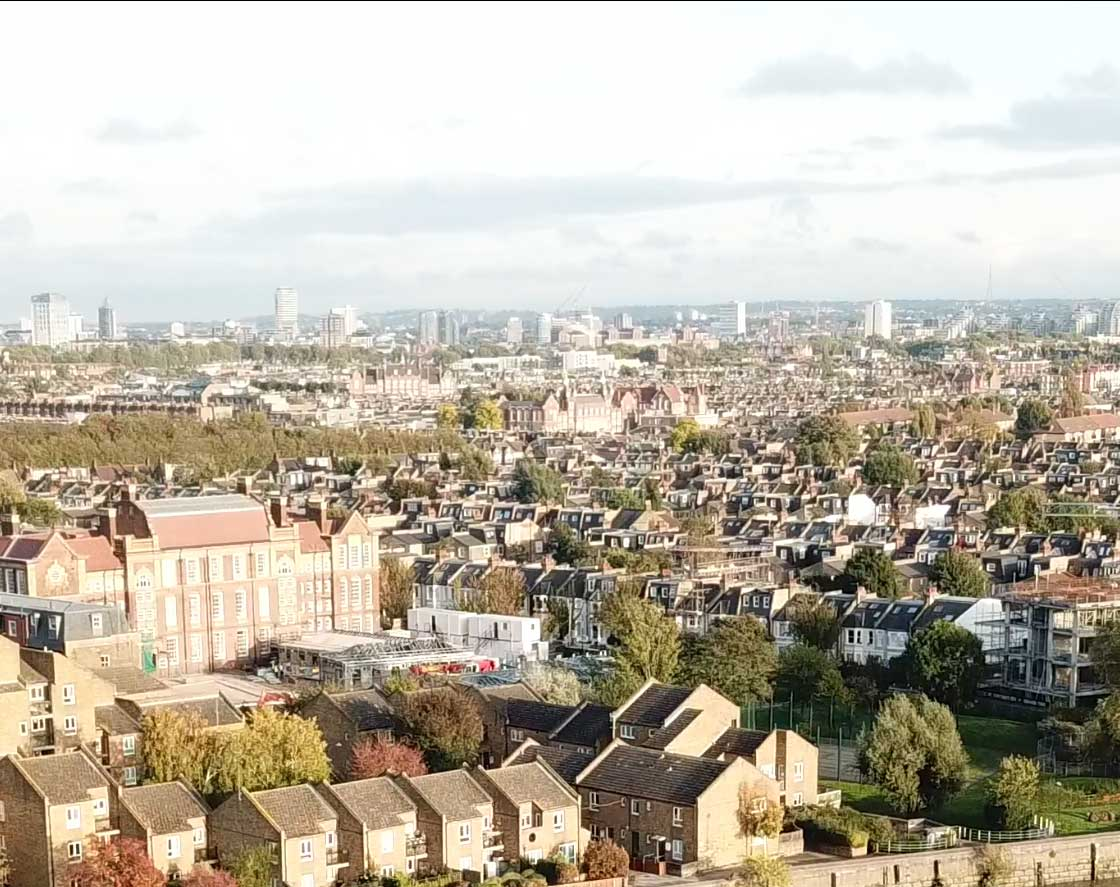building: (2, 476, 422, 635)
tree: (858, 688, 966, 819)
